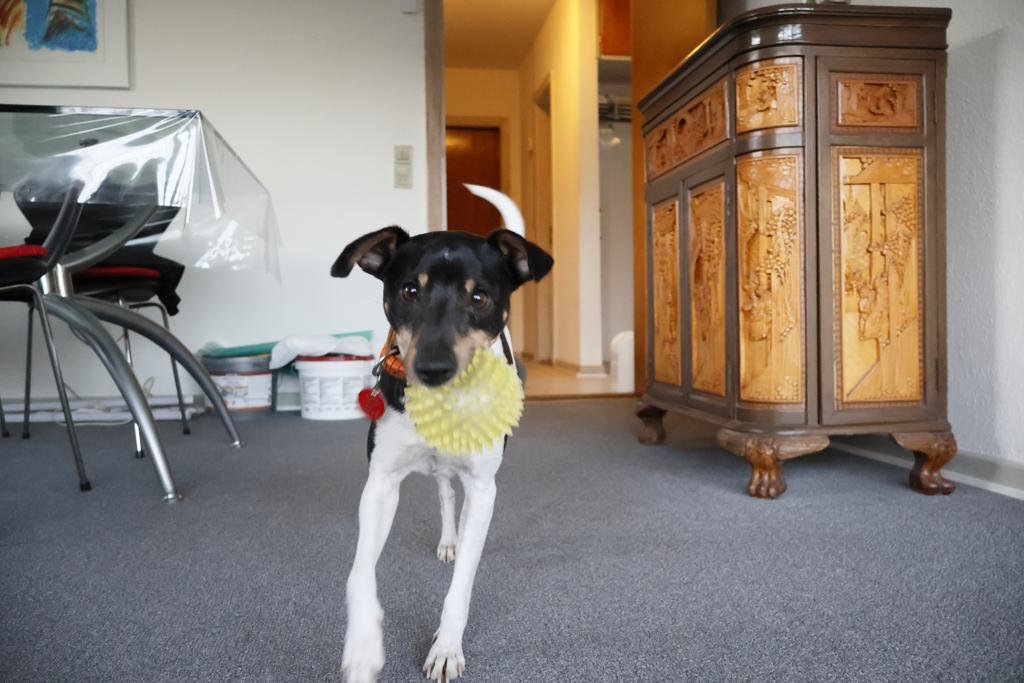Dog: (309, 181, 563, 683)
